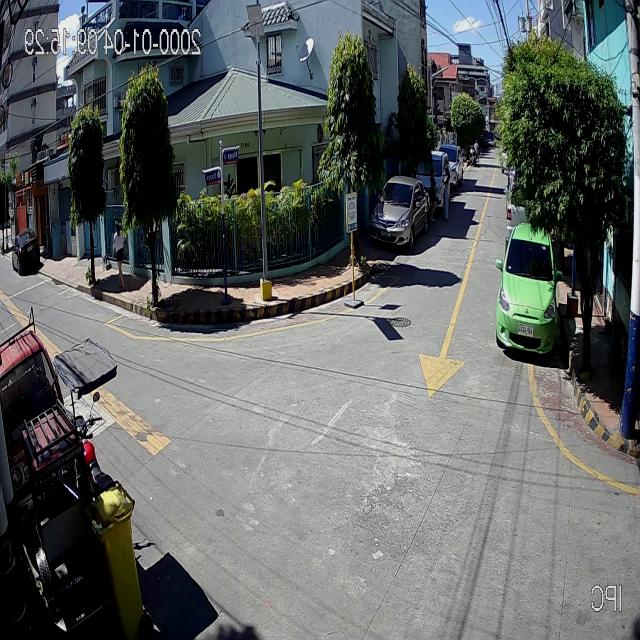standing: (439, 166, 452, 221)
walking: (112, 220, 125, 292), (428, 166, 438, 223), (473, 139, 480, 165)
